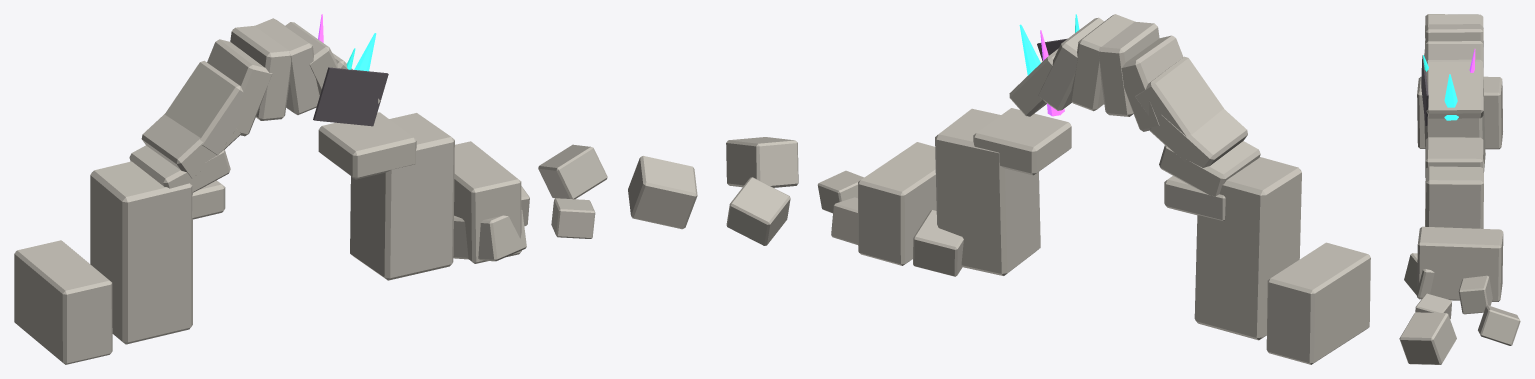
Rendered from runtime.glb.
The picture shows the model from 3 angles, left to right: view 1: azimuth 30°, elevation 25°; view 2: azimuth 150°, elevation 25°; view 3: azimuth 270°, elevation 25°; orthographic projection. The views are drawn at different scales.
Visible parts, largest first — view 1: crystal-ruins-broken-arch-v09_stone_00_nocol, crystal-ruins-broken-arch-v09_stone_01_nocol, crystal-ruins-broken-arch-v09_stone_19_nocol, crystal-ruins-broken-arch-v09_stone_21_nocol, crystal-ruins-broken-arch-v09_voussoir_11_nocol, crystal-ruins-broken-arch-v09_voussoir_03_nocol, crystal-ruins-broken-arch-v09_stone_15_nocol, crystal-ruins-broken-arch-v09_fracture_00_nocol, crystal-ruins-broken-arch-v09_voussoir_05_nocol, crystal-ruins-broken-arch-v09_voussoir_04_nocol, crystal-ruins-broken-arch-v09_stone_14_nocol, crystal-ruins-broken-arch-v09_voussoir_06_nocol (+6 smaller); view 2: crystal-ruins-broken-arch-v09_stone_00_nocol, crystal-ruins-broken-arch-v09_stone_01_nocol, crystal-ruins-broken-arch-v09_stone_19_nocol, crystal-ruins-broken-arch-v09_stone_21_nocol, crystal-ruins-broken-arch-v09_voussoir_11_nocol, crystal-ruins-broken-arch-v09_voussoir_03_nocol, crystal-ruins-broken-arch-v09_stone_15_nocol, crystal-ruins-broken-arch-v09_voussoir_02_nocol, crystal-ruins-broken-arch-v09_stone_14_nocol, crystal-ruins-broken-arch-v09_voussoir_05_nocol, crystal-ruins-broken-arch-v09_voussoir_04_nocol, crystal-ruins-broken-arch-v09_voussoir_06_nocol (+7 smaller); view 3: crystal-ruins-broken-arch-v09_stone_21_nocol, crystal-ruins-broken-arch-v09_stone_01_nocol, crystal-ruins-broken-arch-v09_voussoir_08_nocol, crystal-ruins-broken-arch-v09_stone_15_nocol, crystal-ruins-broken-arch-v09_stone_19_nocol, crystal-ruins-broken-arch-v09_voussoir_11_nocol, crystal-ruins-broken-arch-v09_stone_00_nocol, crystal-ruins-broken-arch-v09_stone_14_nocol, crystal-ruins-broken-arch-v09_voussoir_07_nocol, crystal-ruins-broken-arch-v09_stone_12_nocol, crystal-ruins-broken-arch-v09_voussoir_06_nocol, crystal-ruins-broken-arch-v09_stone_11_nocol (+4 smaller).
Boxes of the visible parts, left/top/right/bottom form: crystal-ruins-broken-arch-v09_stone_00_nocol: left=90, top=161, right=192, bottom=344; crystal-ruins-broken-arch-v09_stone_01_nocol: left=350, top=113, right=454, bottom=280; crystal-ruins-broken-arch-v09_stone_19_nocol: left=14, top=240, right=112, bottom=364; crystal-ruins-broken-arch-v09_stone_21_nocol: left=454, top=141, right=521, bottom=263; crystal-ruins-broken-arch-v09_voussoir_11_nocol: left=318, top=112, right=416, bottom=179; crystal-ruins-broken-arch-v09_voussoir_03_nocol: left=164, top=60, right=243, bottom=155; crystal-ruins-broken-arch-v09_stone_15_nocol: left=628, top=156, right=697, bottom=229; crystal-ruins-broken-arch-v09_fracture_00_nocol: left=313, top=67, right=388, bottom=126; crystal-ruins-broken-arch-v09_voussoir_05_nocol: left=230, top=25, right=291, bottom=120; crystal-ruins-broken-arch-v09_voussoir_04_nocol: left=207, top=39, right=272, bottom=136; crystal-ruins-broken-arch-v09_stone_14_nocol: left=538, top=144, right=607, bottom=199; crystal-ruins-broken-arch-v09_voussoir_06_nocol: left=255, top=18, right=319, bottom=114; crystal-ruins-broken-arch-v09_stone_00_nocol: left=1194, top=157, right=1301, bottom=340; crystal-ruins-broken-arch-v09_stone_01_nocol: left=935, top=108, right=1040, bottom=275; crystal-ruins-broken-arch-v09_stone_19_nocol: left=1266, top=242, right=1370, bottom=364; crystal-ruins-broken-arch-v09_stone_21_nocol: left=858, top=142, right=936, bottom=265; crystal-ruins-broken-arch-v09_voussoir_11_nocol: left=973, top=108, right=1071, bottom=175; crystal-ruins-broken-arch-v09_voussoir_03_nocol: left=1135, top=56, right=1223, bottom=136; crystal-ruins-broken-arch-v09_stone_15_nocol: left=726, top=137, right=798, bottom=187; crystal-ruins-broken-arch-v09_voussoir_02_nocol: left=1149, top=109, right=1247, bottom=167; crystal-ruins-broken-arch-v09_stone_14_nocol: left=726, top=177, right=790, bottom=245; crystal-ruins-broken-arch-v09_voussoir_05_nocol: left=1098, top=21, right=1159, bottom=116; crystal-ruins-broken-arch-v09_voussoir_04_nocol: left=1121, top=35, right=1183, bottom=131; crystal-ruins-broken-arch-v09_voussoir_06_nocol: left=1070, top=14, right=1134, bottom=111; crystal-ruins-broken-arch-v09_stone_21_nocol: left=1417, top=226, right=1503, bottom=301; crystal-ruins-broken-arch-v09_stone_01_nocol: left=1425, top=159, right=1483, bottom=228; crystal-ruins-broken-arch-v09_voussoir_08_nocol: left=1426, top=59, right=1483, bottom=118; crystal-ruins-broken-arch-v09_stone_15_nocol: left=1399, top=312, right=1456, bottom=364; crystal-ruins-broken-arch-v09_stone_19_nocol: left=1417, top=76, right=1502, bottom=149; crystal-ruins-broken-arch-v09_voussoir_11_nocol: left=1425, top=137, right=1483, bottom=177; crystal-ruins-broken-arch-v09_stone_00_nocol: left=1424, top=49, right=1485, bottom=172; crystal-ruins-broken-arch-v09_stone_14_nocol: left=1478, top=305, right=1520, bottom=345; crystal-ruins-broken-arch-v09_voussoir_07_nocol: left=1425, top=41, right=1483, bottom=68; crystal-ruins-broken-arch-v09_stone_12_nocol: left=1458, top=275, right=1492, bottom=314; crystal-ruins-broken-arch-v09_voussoir_06_nocol: left=1425, top=24, right=1483, bottom=79; crystal-ruins-broken-arch-v09_stone_11_nocol: left=1404, top=253, right=1434, bottom=298.
Size of the model in its own units: 19.78 by 7.89 by 4.29.
